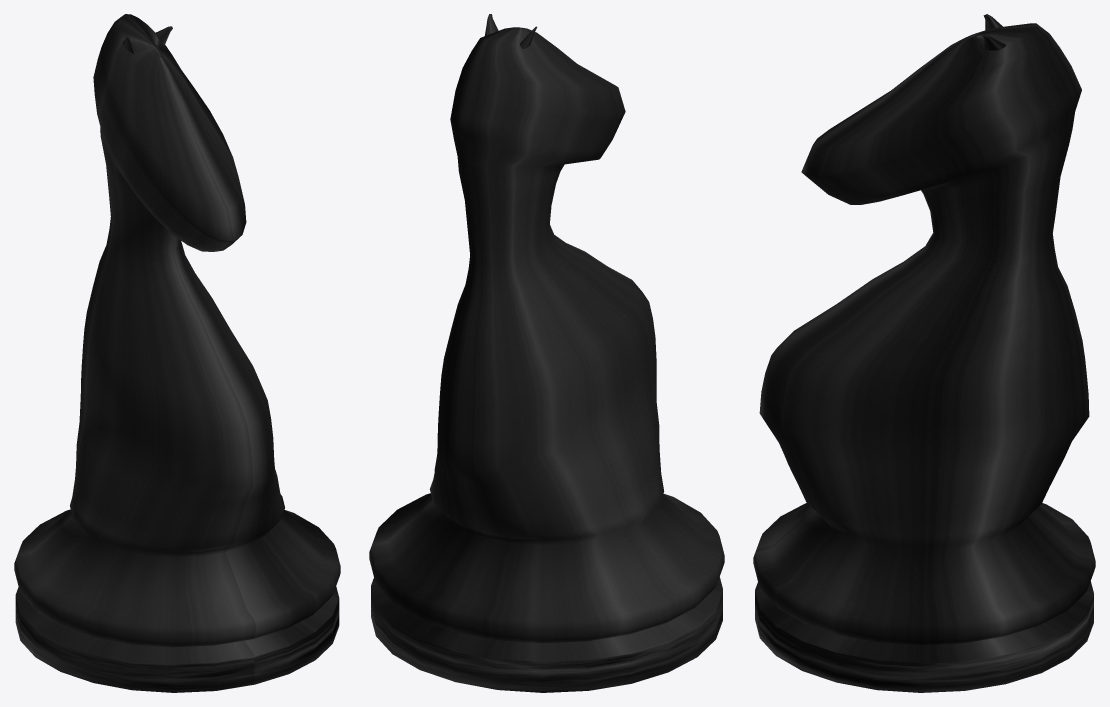
File: black_knight.obj
3 renders of one model, left to right at view 1: azimuth 30°, elevation 25°; view 2: azimuth 150°, elevation 25°; view 3: azimuth 270°, elevation 25°, orthographic. The views are drawn at different scales.
Parts seen in each view (by area): view 1: Knight.001_Cylinder.016; view 2: Knight.001_Cylinder.016; view 3: Knight.001_Cylinder.016.
Boxes of the visible parts, x1,y1,x2,y2 form: Knight.001_Cylinder.016: (14, 14, 340, 692); Knight.001_Cylinder.016: (369, 14, 724, 692); Knight.001_Cylinder.016: (753, 14, 1095, 692).
Bounding box in the file's own units: 1.51 × 2.92 × 1.51.
1 material, 1 textured.
